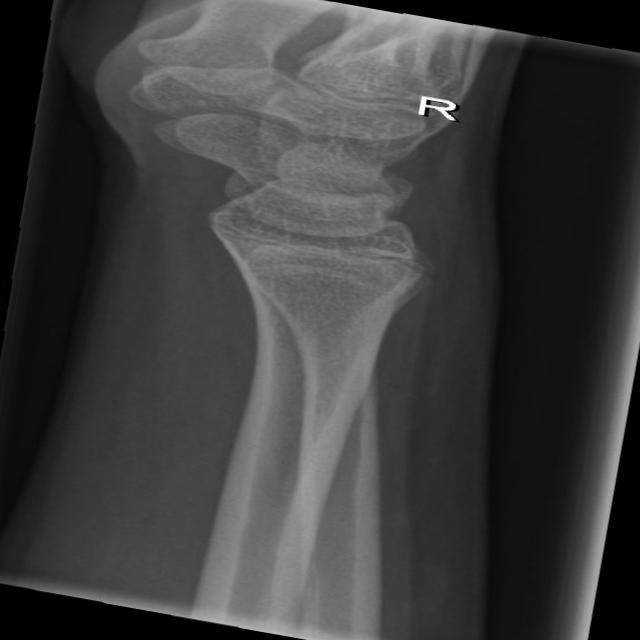fracture: (184, 204, 459, 304)
